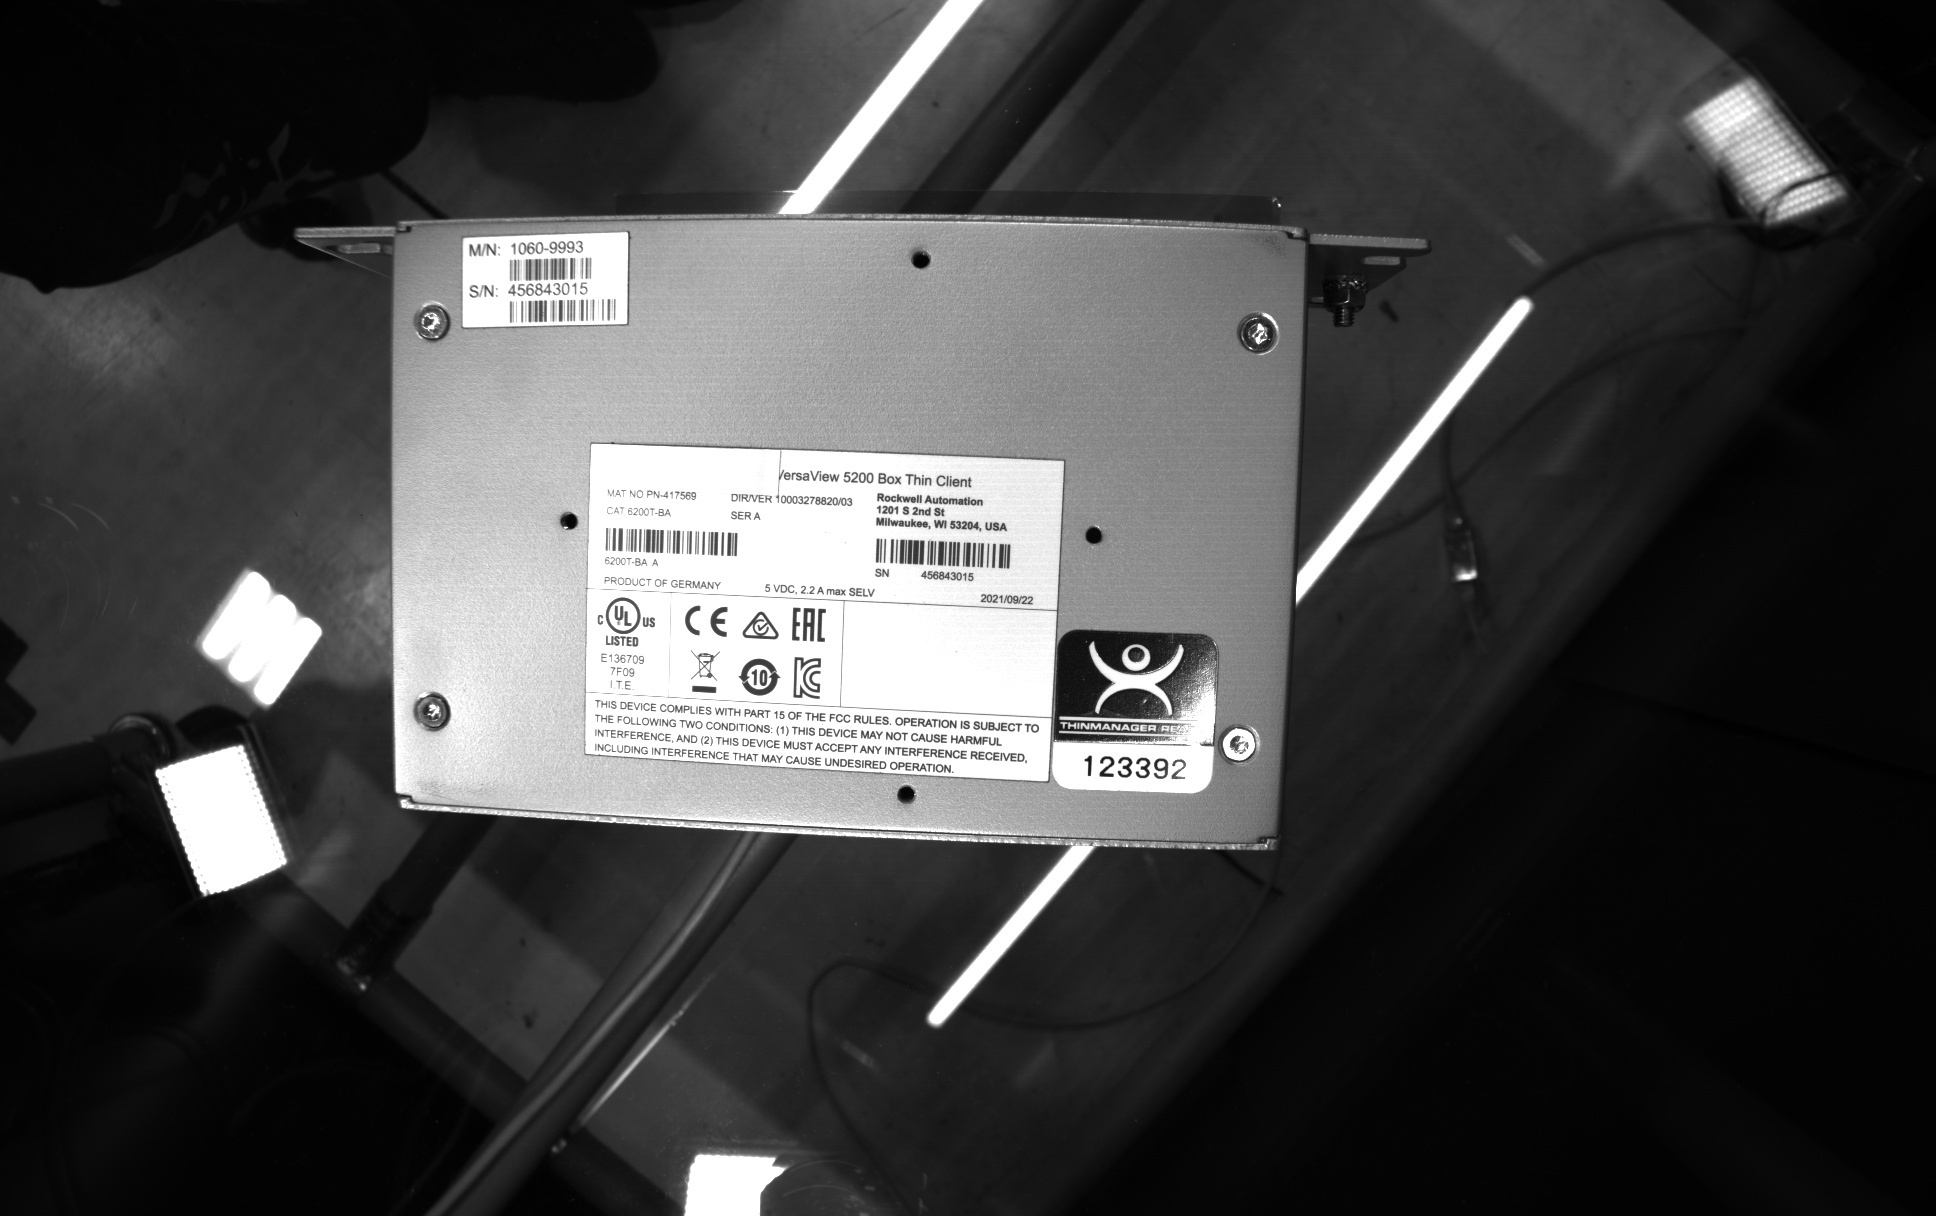Barcode: (597, 521, 744, 565), (866, 532, 1018, 573), (503, 296, 623, 328), (503, 252, 595, 287)
CamTop: (368, 195, 1325, 873)
Label_Seriennummer: (572, 429, 1079, 792)
Loch_Montage: (545, 495, 586, 539), (1076, 513, 1115, 553), (885, 778, 927, 815), (901, 237, 941, 275)
Schraube: (1230, 305, 1287, 359), (408, 684, 458, 740), (1217, 719, 1266, 773), (409, 296, 459, 347)
